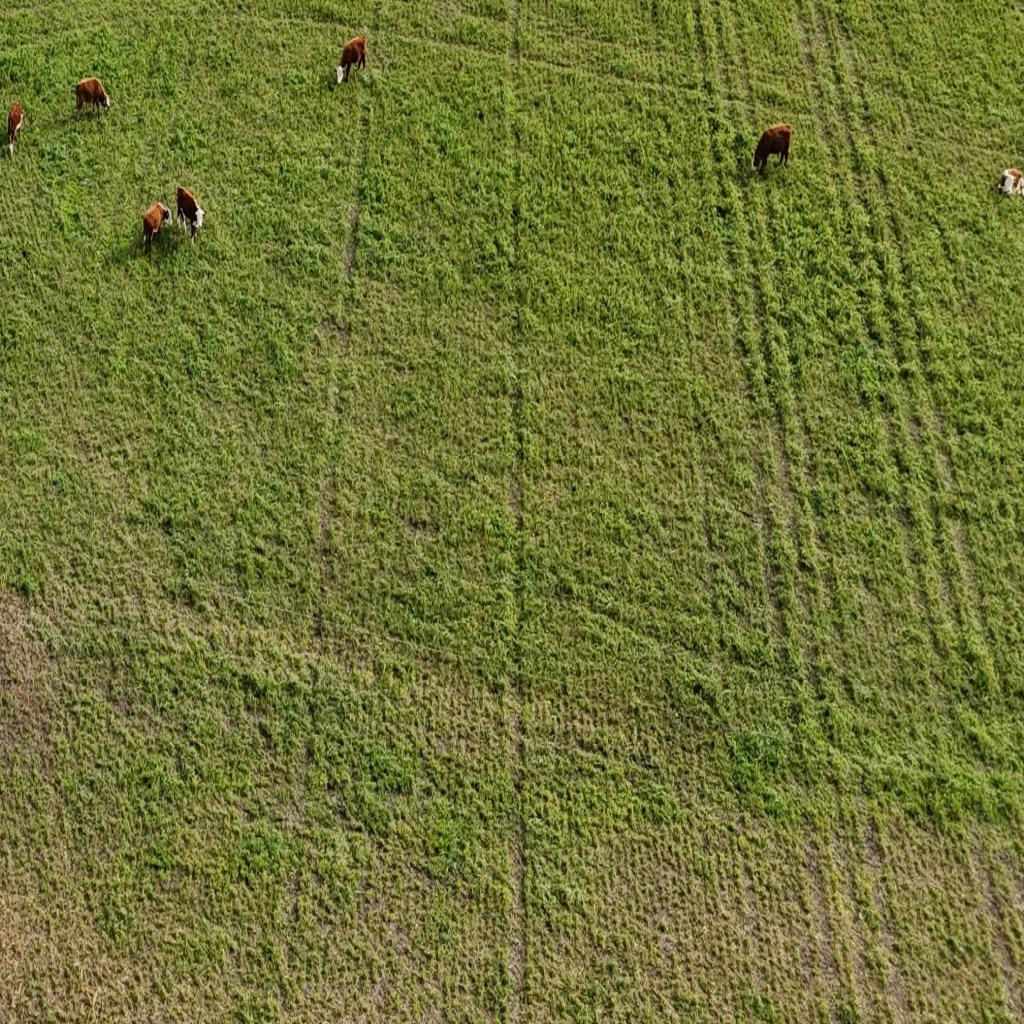cow: (751, 122, 792, 172), (176, 184, 206, 245), (142, 202, 172, 260), (337, 35, 369, 84), (75, 76, 111, 118), (7, 102, 24, 160), (998, 170, 1024, 198)
